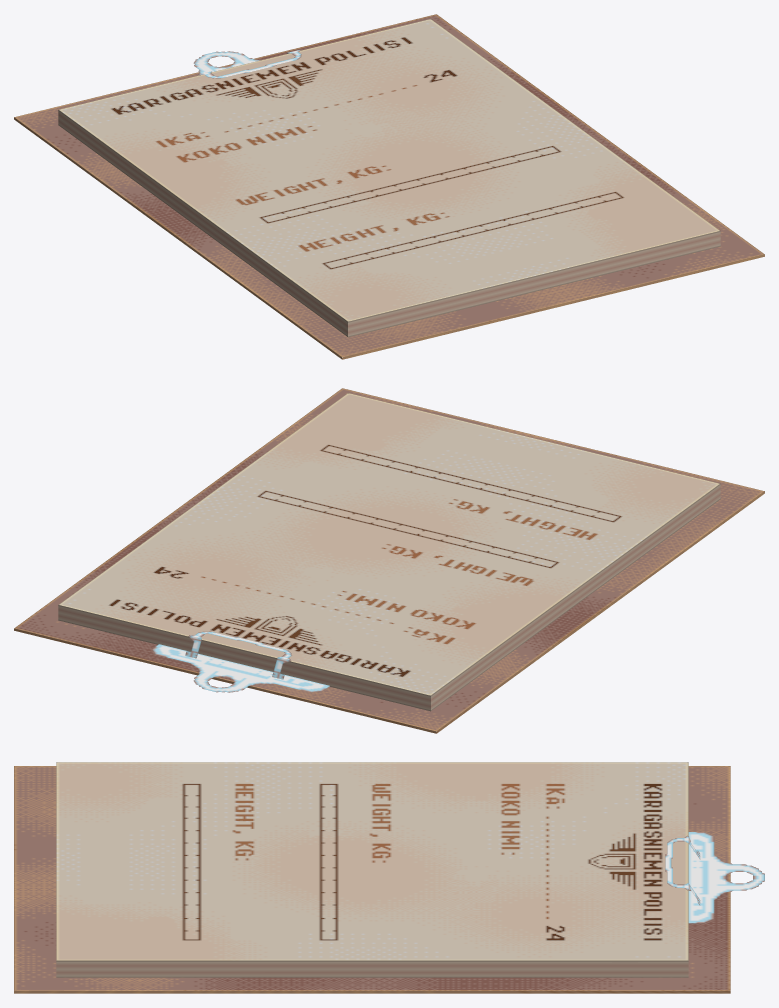
The model's file is sauna_tablet.fbx.
3 views of the same model, one above another, from view 1: azimuth 30°, elevation 25°; view 2: azimuth 150°, elevation 25°; view 3: azimuth 270°, elevation 25° (orthographic). The views are drawn at different scales.
Visible parts, largest first — view 1: Plane, Plane.001; view 2: Plane, Plane.001, Plane.002; view 3: Plane, Plane.001, Plane.002.
Part boxes in pixels (box(x1,y1,x2,y2)): Plane: box(14, 14, 764, 359); Plane.001: box(193, 51, 260, 75); Plane: box(14, 388, 764, 733); Plane.001: box(152, 644, 329, 692); Plane.002: box(185, 631, 291, 679); Plane: box(14, 762, 730, 993); Plane.001: box(688, 832, 764, 923); Plane.002: box(665, 835, 700, 905).
Bounding box in the file's own units: 95.34 × 4.06 × 134.
